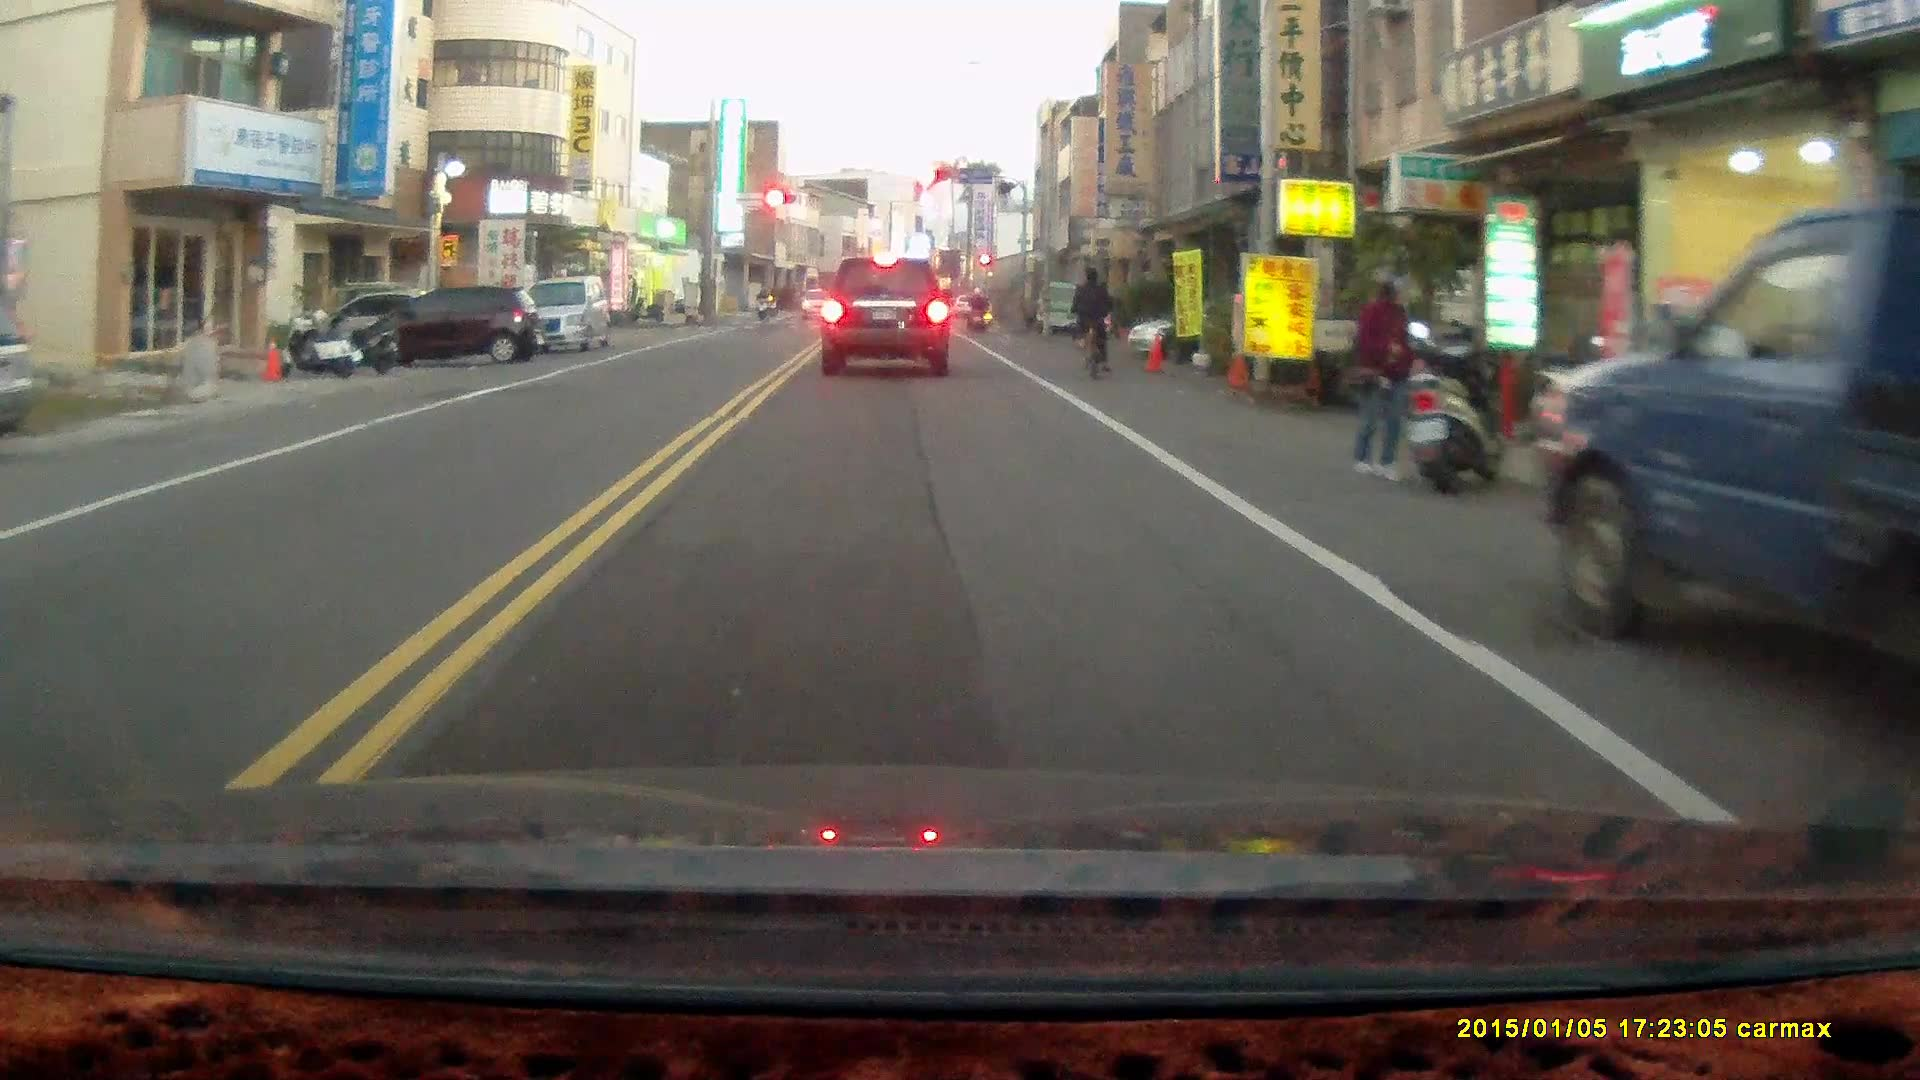pedestrian: (1348, 275, 1420, 481)
rider: (1070, 267, 1115, 380), (965, 285, 988, 336), (753, 283, 773, 321)
vehicle: (1532, 200, 1920, 705), (819, 258, 956, 380), (365, 283, 546, 374), (504, 274, 618, 360), (0, 277, 43, 452)
